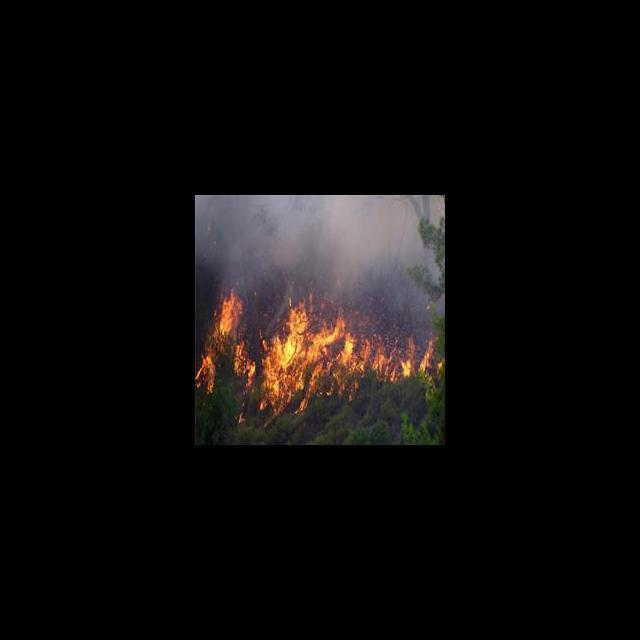Fire: (199, 289, 445, 419)
Smoke: (196, 198, 431, 282)
